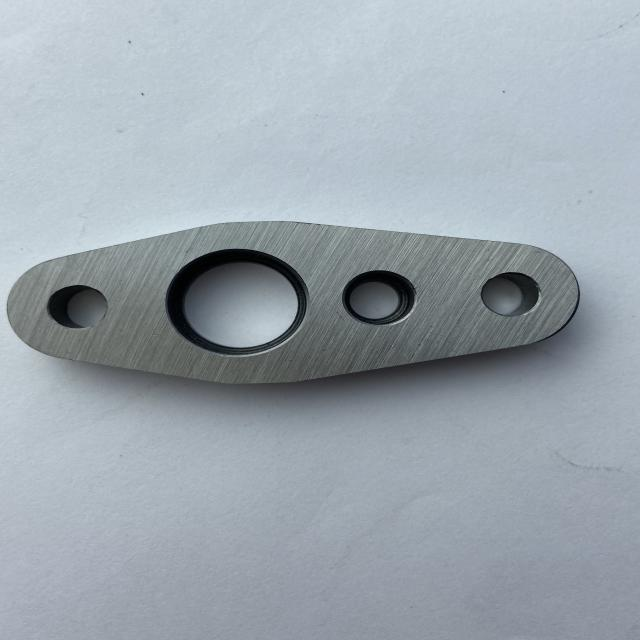chap: (150, 332, 163, 337)
lines: (374, 235, 388, 268), (324, 300, 341, 322)
